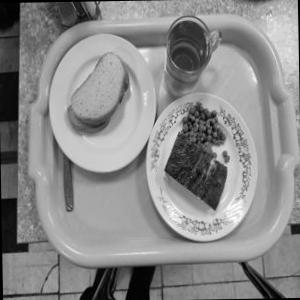bread: (60, 46, 128, 132)
casserole: (154, 109, 244, 224)
tea: (162, 3, 214, 104)
